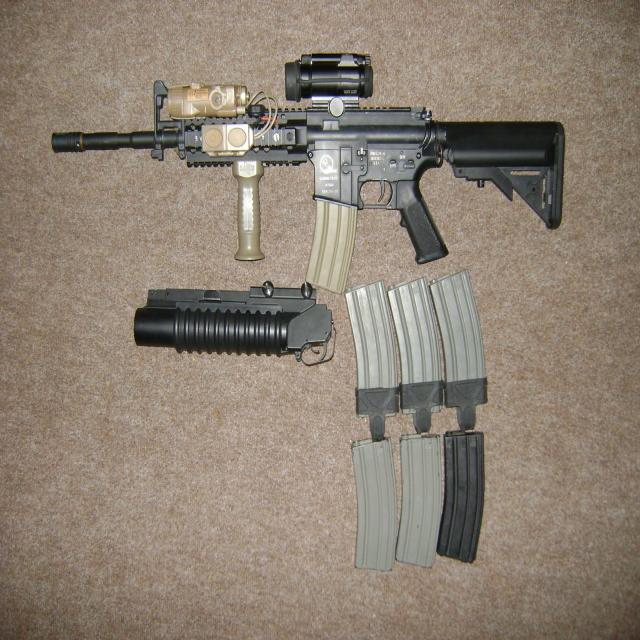firearm: (49, 50, 567, 299)
rocket: (132, 281, 338, 371)
